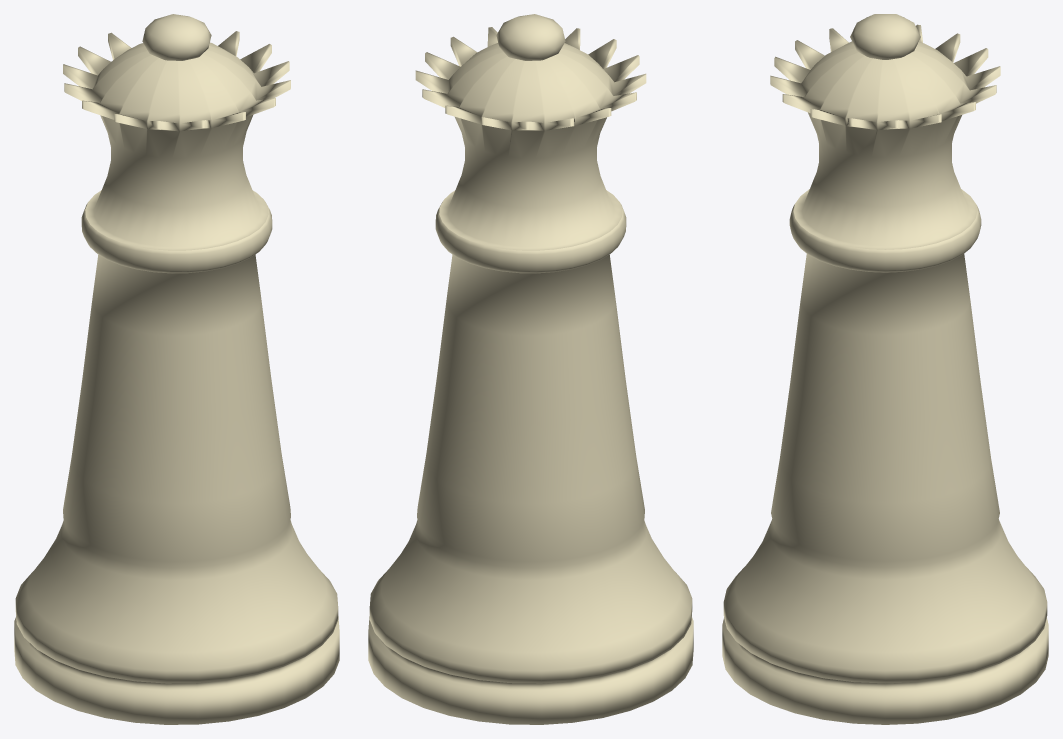
File: queen_white.gltf
3 views of the same model, side by side, from view 1: azimuth 30°, elevation 25°; view 2: azimuth 150°, elevation 25°; view 3: azimuth 270°, elevation 25° (orthographic).
Visible parts, largest first — view 1: queen_white; view 2: queen_white; view 3: queen_white.
Part boxes in pixels (x1,y1,x2,y2): queen_white: (14,14,339,724); queen_white: (368,14,693,724); queen_white: (722,14,1048,724).
Size of the model in its own units: 1.3 by 2.81 by 1.3.
